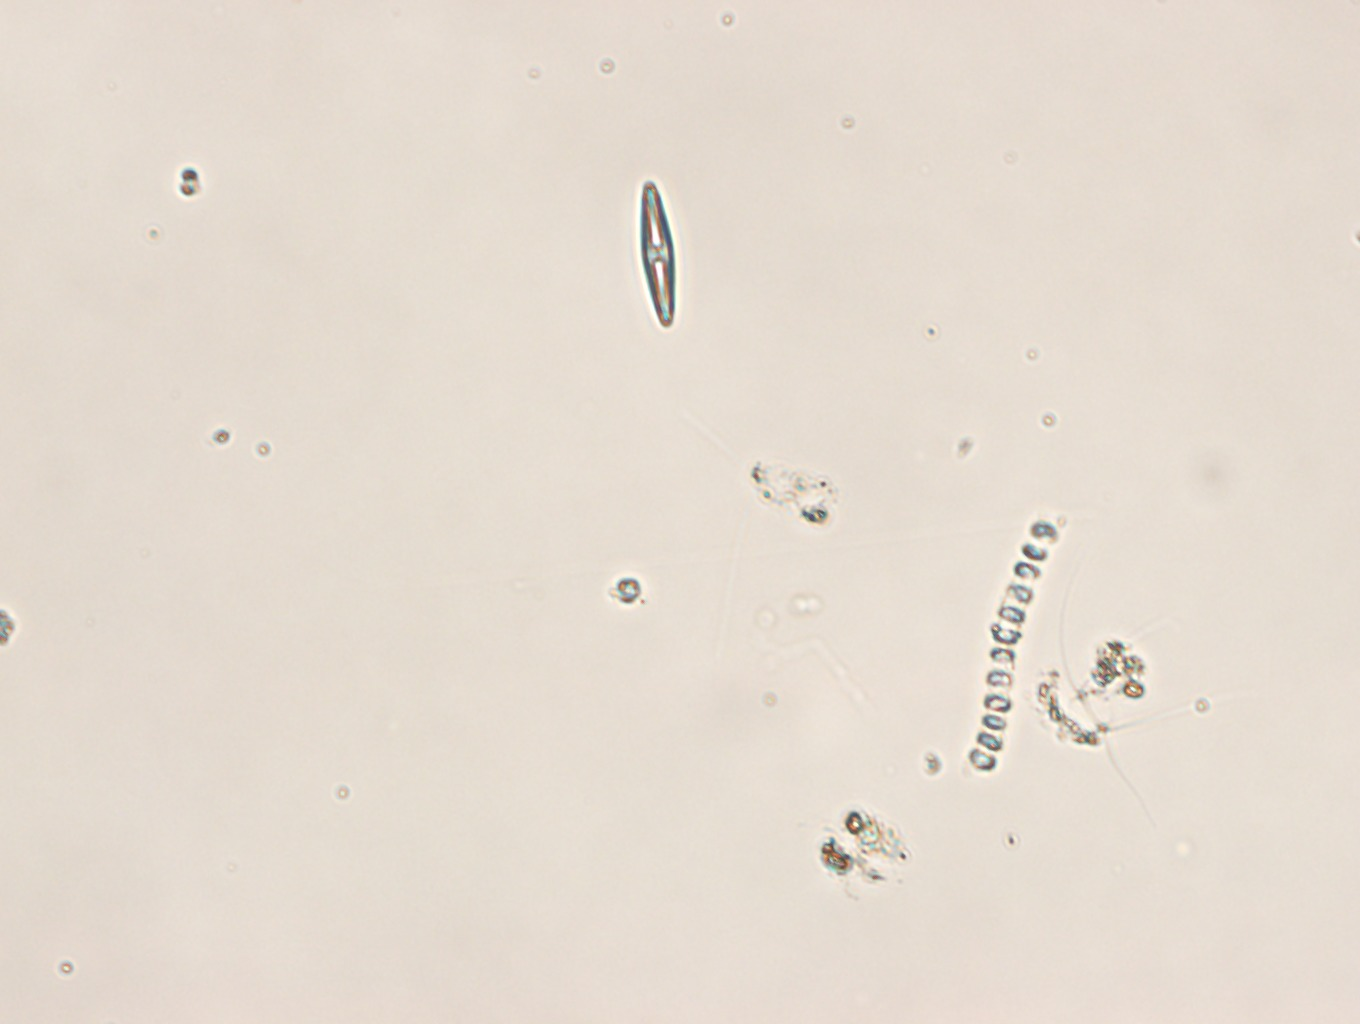navicula: (638, 179, 678, 327)
skeletonema: (969, 514, 1058, 773)
